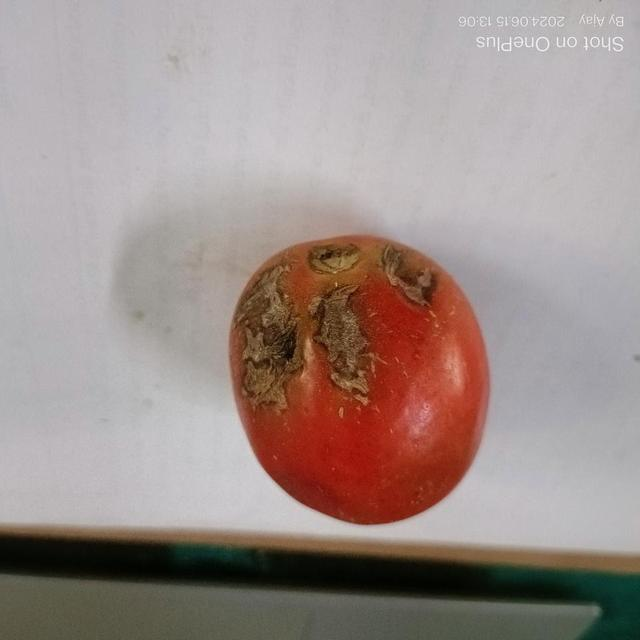Bacterial Spot Fruit: (39, 49, 274, 230)
